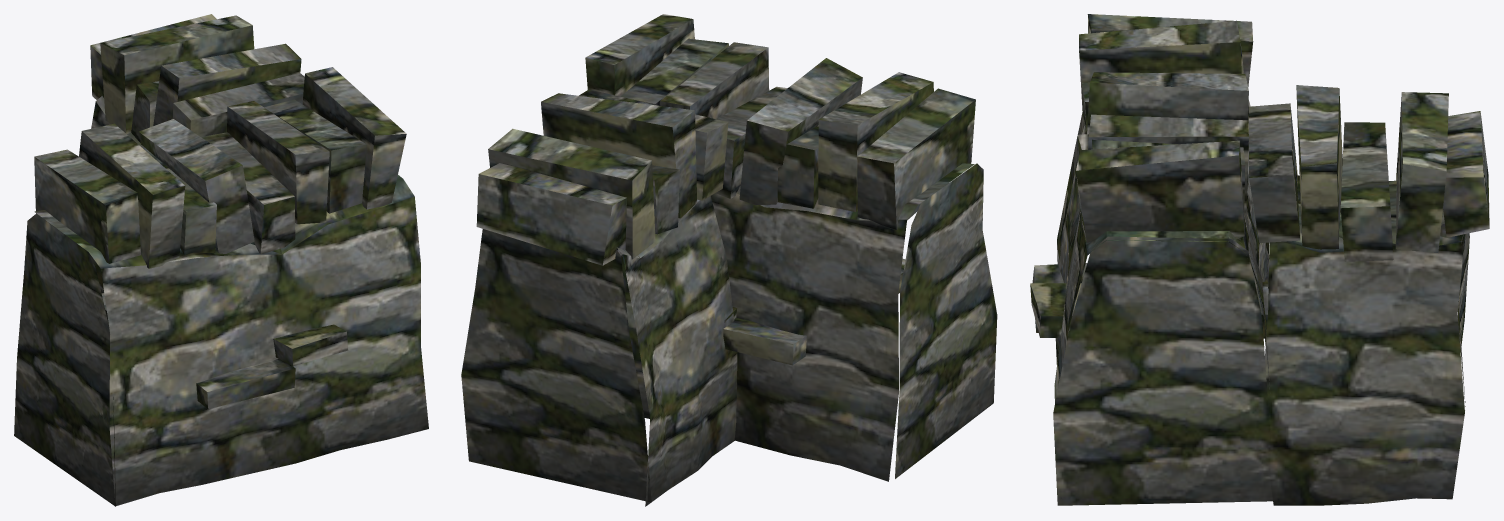
The model's file is wall_drystone_corner.glb.
3 renders of one model, left to right at view 1: azimuth 30°, elevation 25°; view 2: azimuth 150°, elevation 25°; view 3: azimuth 270°, elevation 25°, orthographic. The views are drawn at different scales.
Visible parts, largest first — view 1: wall_drystone_corner; view 2: wall_drystone_corner; view 3: wall_drystone_corner.
Part boxes in pixels (x1,y1,x2,y2): wall_drystone_corner: (14, 14, 428, 506); wall_drystone_corner: (461, 14, 997, 506); wall_drystone_corner: (1030, 14, 1489, 505).
Size of the model in its own units: 1.41 by 1.29 by 1.56.
Materials: 1 (1 with a texture image).
